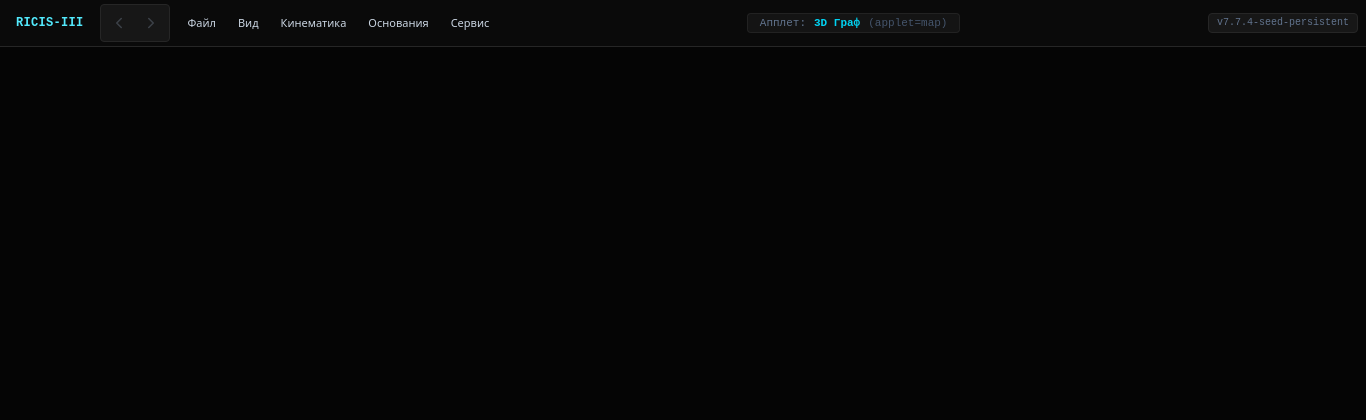
Test case: CompactCommandMenuBar › keeps text labels and shortcut columns visible in classic menus, but not toolbar buttons
Click the menu item with class "menubar-command" showing "Файл": (202, 23) left=178, top=8, right=226, bottom=38
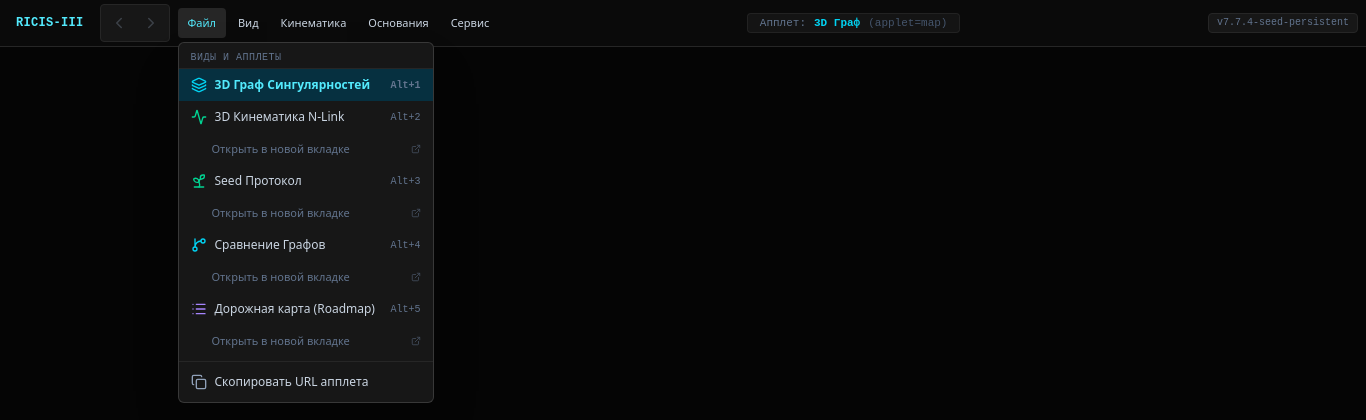
expect the menu item with class "menu-command" shows "3D Граф Сингулярностей": met, box left=178, top=69, right=432, bottom=101
expect the menu item with class "menu-command" shows "Alt+1": met, box left=178, top=69, right=432, bottom=101
